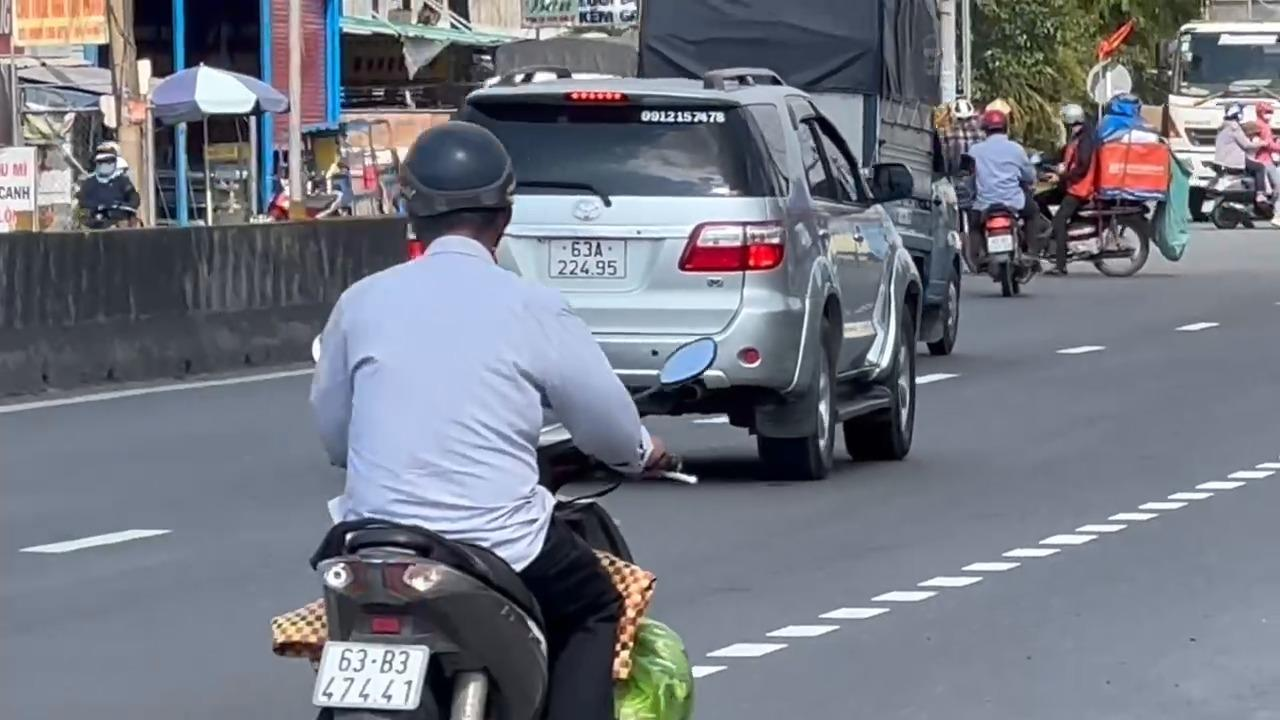bien_so: (311, 639, 429, 710), (547, 237, 627, 280)
